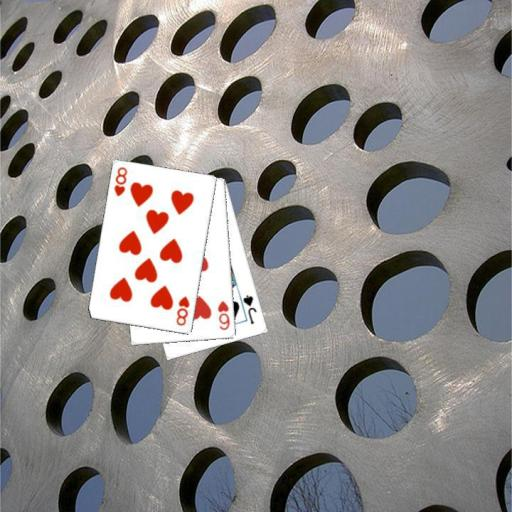6H: (215, 298, 232, 332)
8H: (173, 293, 191, 327), (111, 164, 129, 198)
JS: (240, 292, 258, 326)
